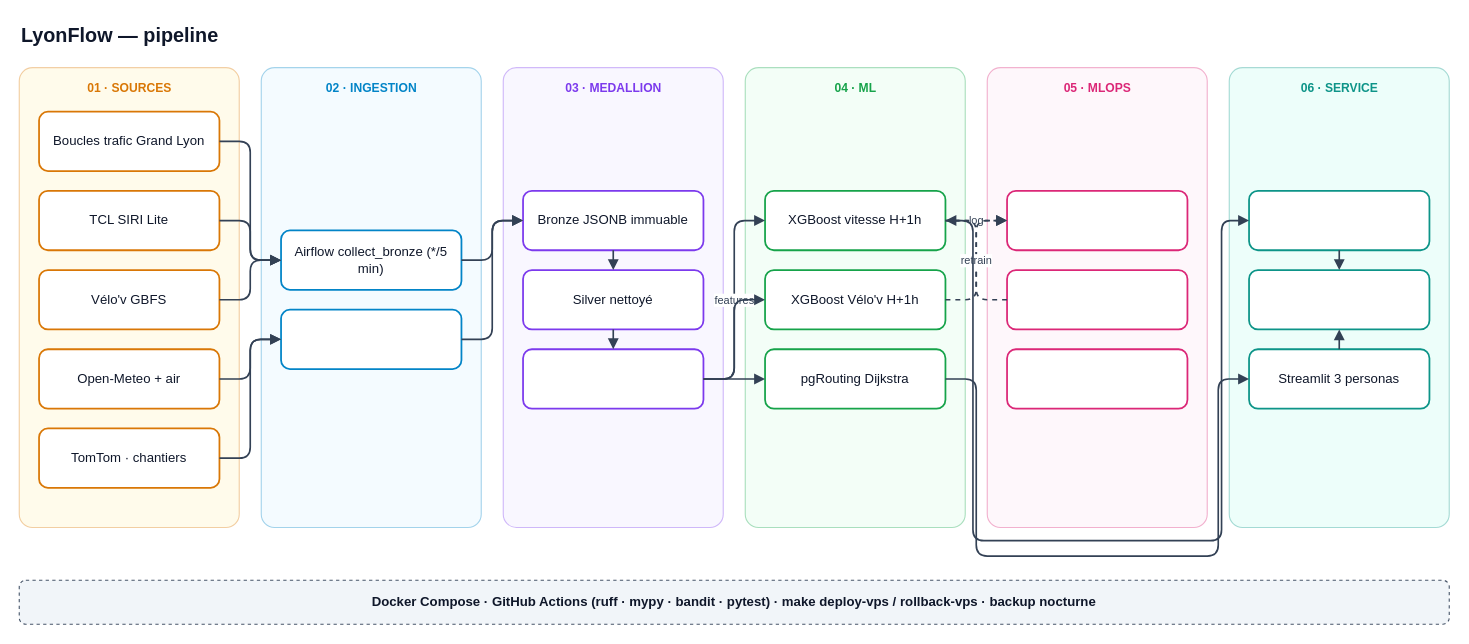
Some shapes in this 1469 by 644 pixel diagram are drawn without their labels. The box of each missing label's shape, as (x1, y1, x2, y2) in pixels:
Collecteurs DataCollector: (280, 308, 462, 369)
Drift PSI + Evidently: (1006, 269, 1188, 330)
FastAPI (X-API-Key): (1248, 189, 1430, 251)
Gold features + vues: (522, 348, 704, 409)
MLflow registry: (1006, 189, 1188, 251)
Nginx + TLS: (1248, 269, 1430, 330)
Prometheus · Grafana: (1006, 348, 1188, 409)
